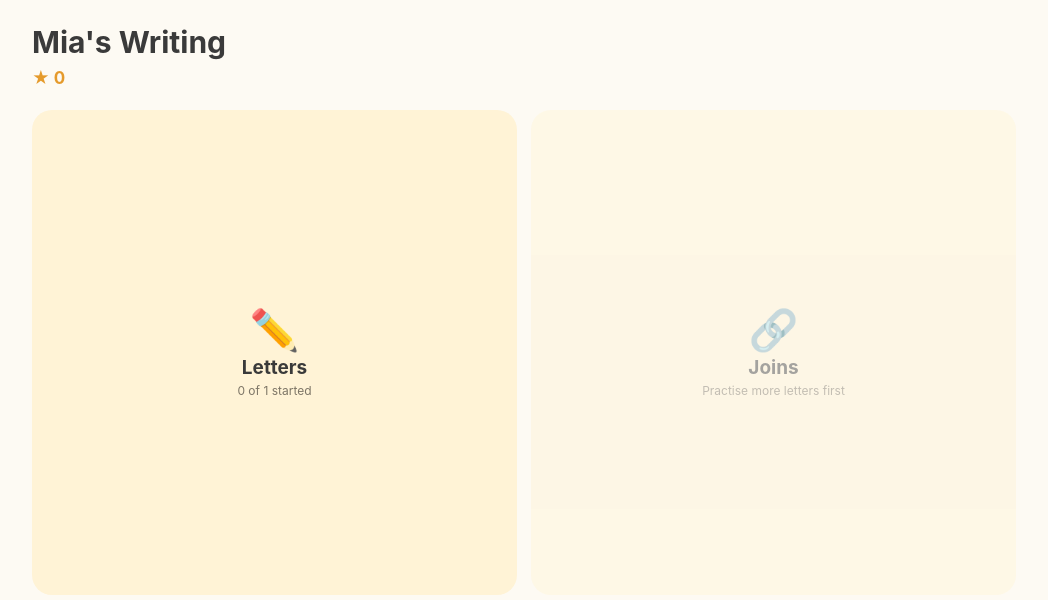
App › offers a demonstration of how to write the letter
Click the button "✏️ Letters 0 of 1 started".
click(61, 352)  # box [32,110,517,595]
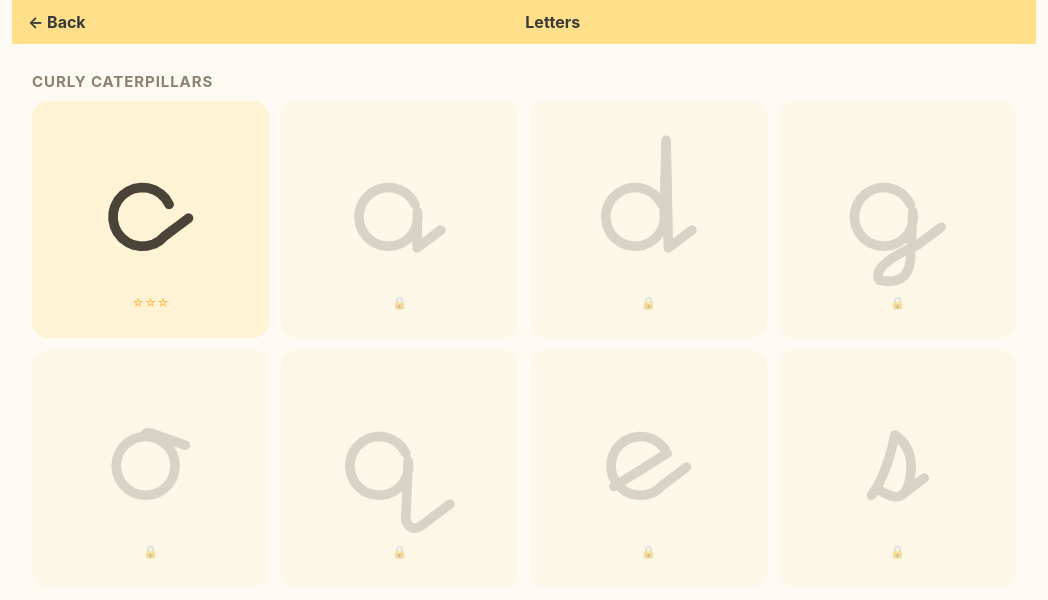
Click the button named "Letter c".
click(150, 220)  # box [32,101,269,338]
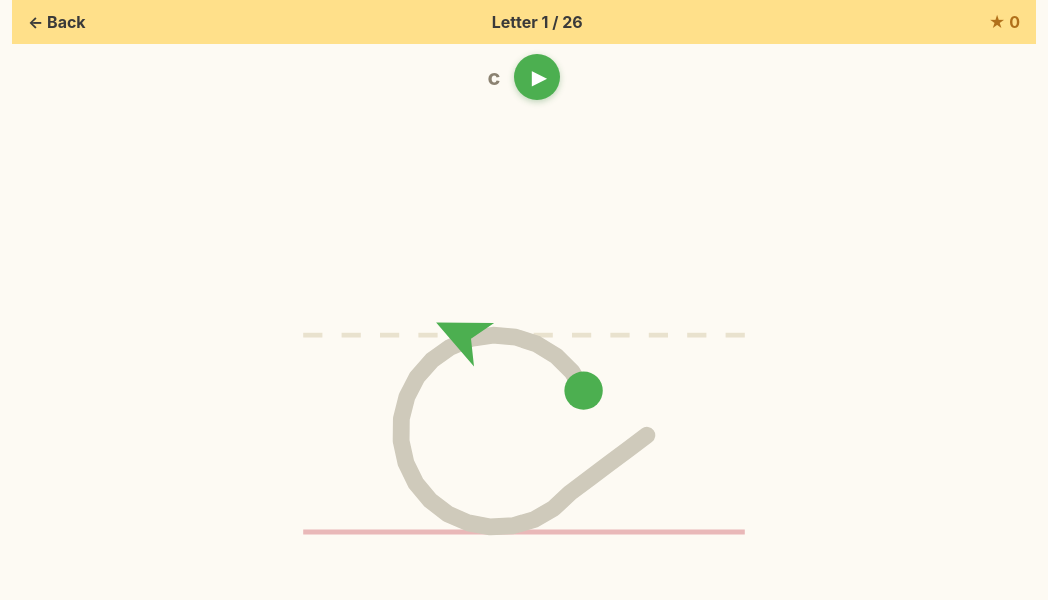
Expected: the button named "Watch how to write it" is shown, [514,54,560,100]
